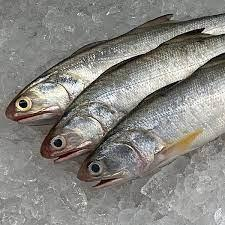Mullet: (74, 139, 145, 192), (5, 72, 73, 127), (43, 104, 106, 163)
